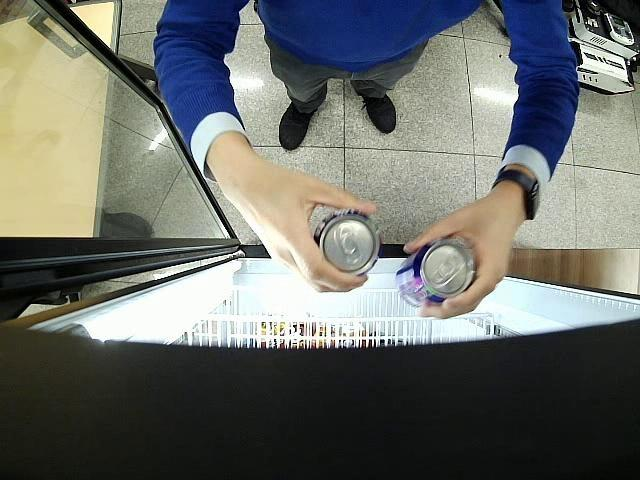14_welchsGrape: (397, 239, 475, 308), (314, 209, 381, 276)
